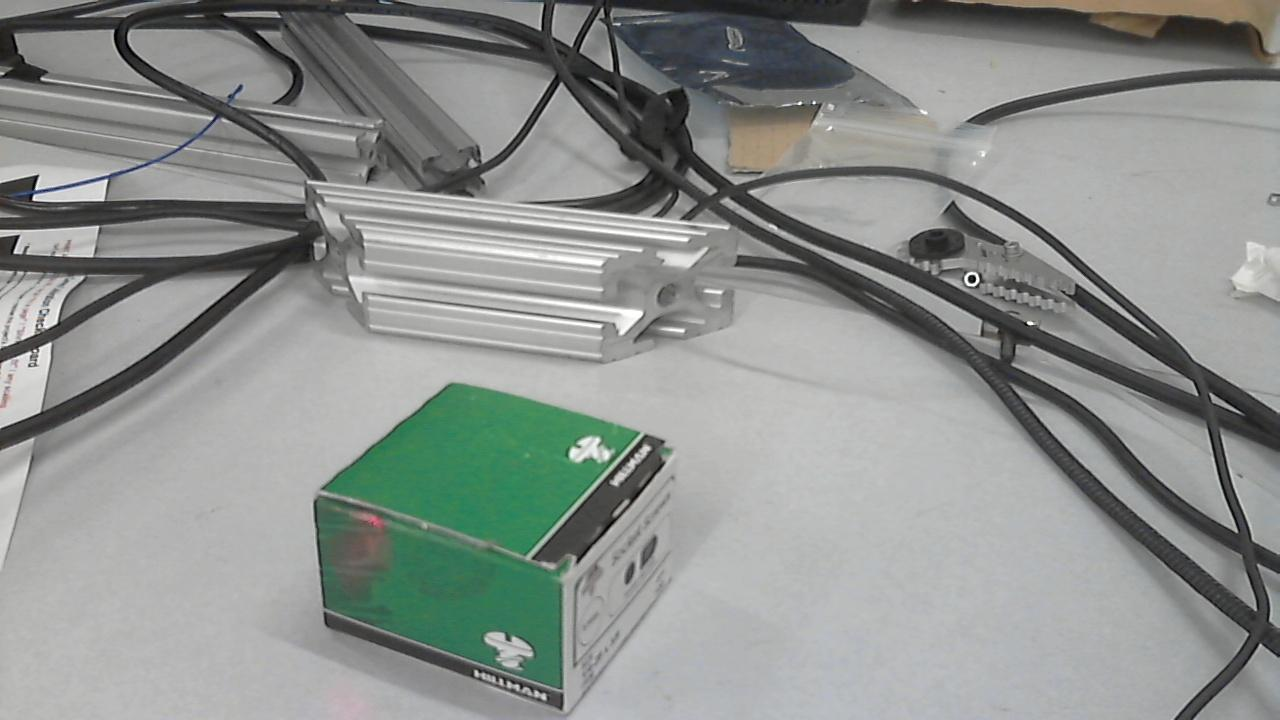Object screw packaging box - Material cardboard - Pdfname VgpKnmoKJfrS: (328, 500, 414, 594)
